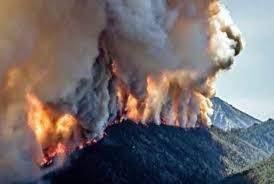fire: (99, 59, 220, 127), (20, 87, 81, 165)
